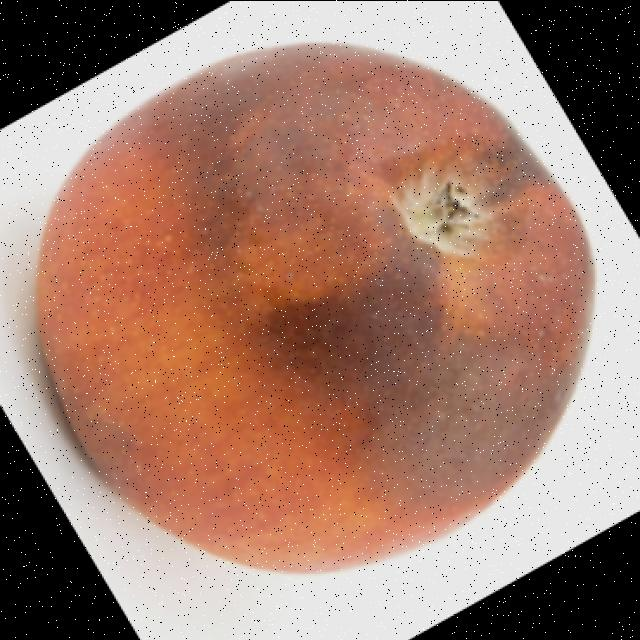Rotten: (27, 39, 601, 581)
